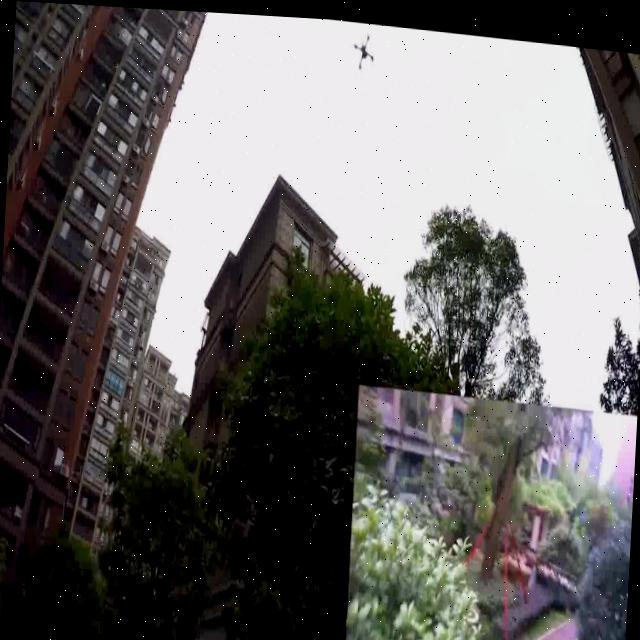drone: (347, 28, 374, 75)
